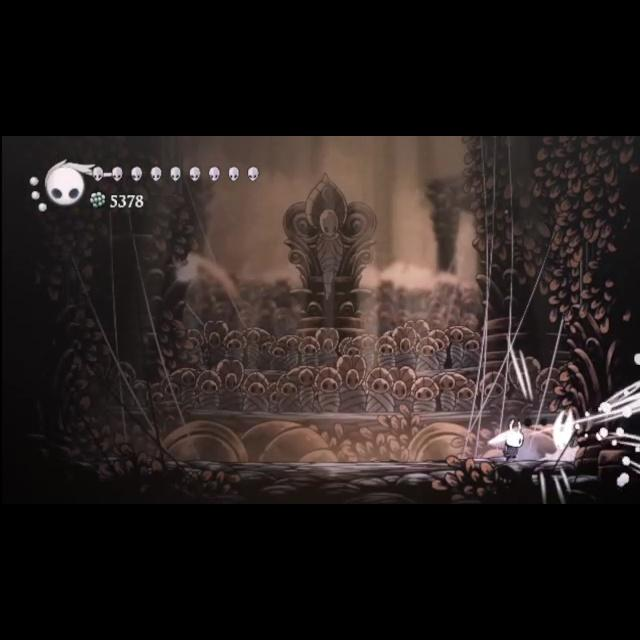EnemyDamaged: (539, 406, 589, 464)
Player: (497, 418, 529, 462)
